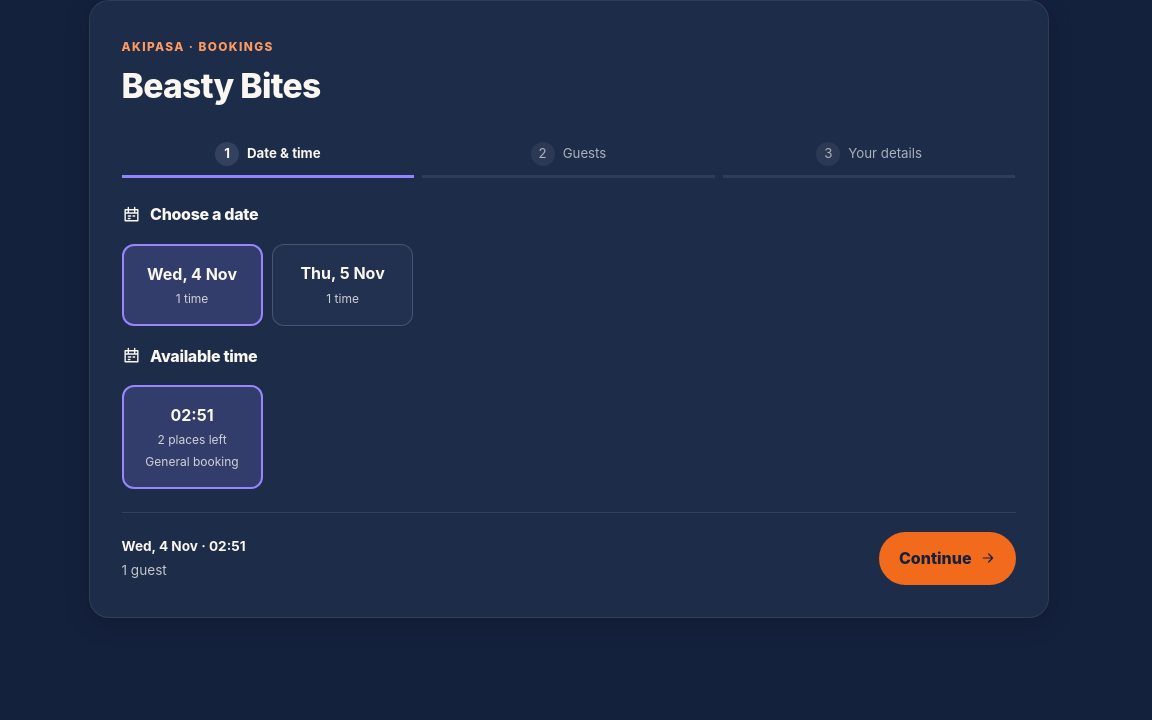
Test: Customer booking wizard › uses steps and guest buttons limited by the selected slot
The width and height of the screenshot is (1152, 720).
Expected: the heading "Choose a date" is shown, [122, 204, 258, 224]
Click the button "Continue" at {"x": 947, "y": 558}, box [879, 532, 1016, 584]
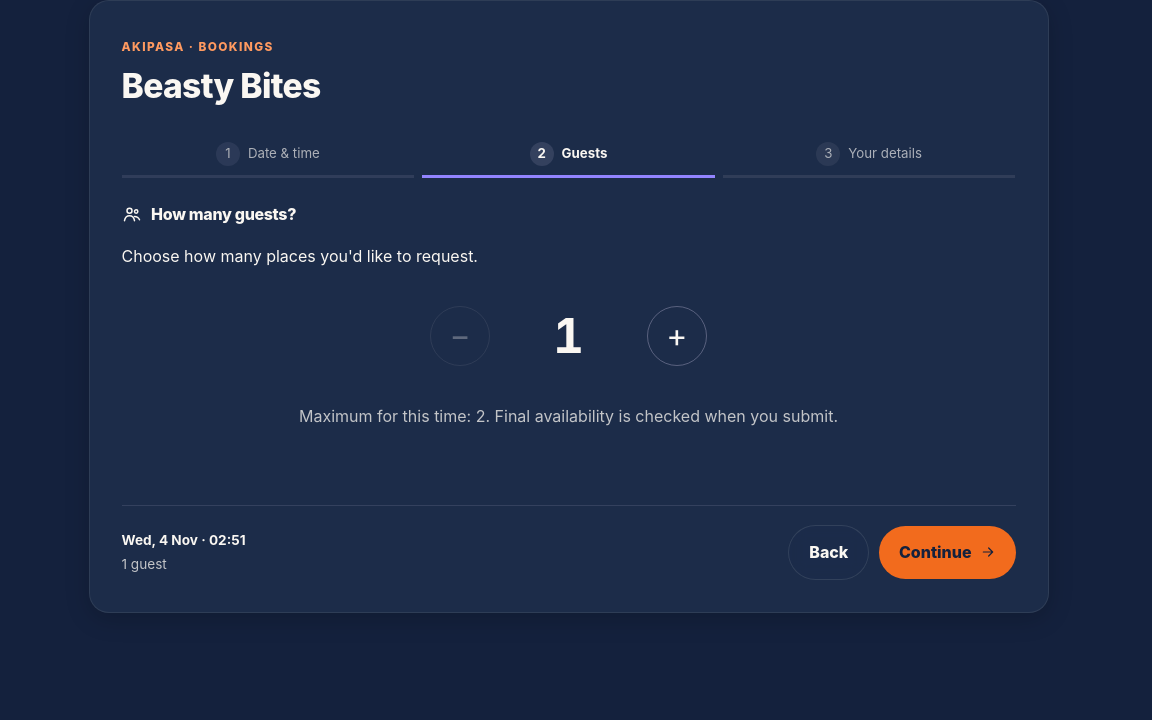
Expected: the heading "How many guests?" is shown, [122, 204, 296, 224]
Click the button named "Add guest" at {"x": 677, "y": 336}, box [647, 306, 707, 366]
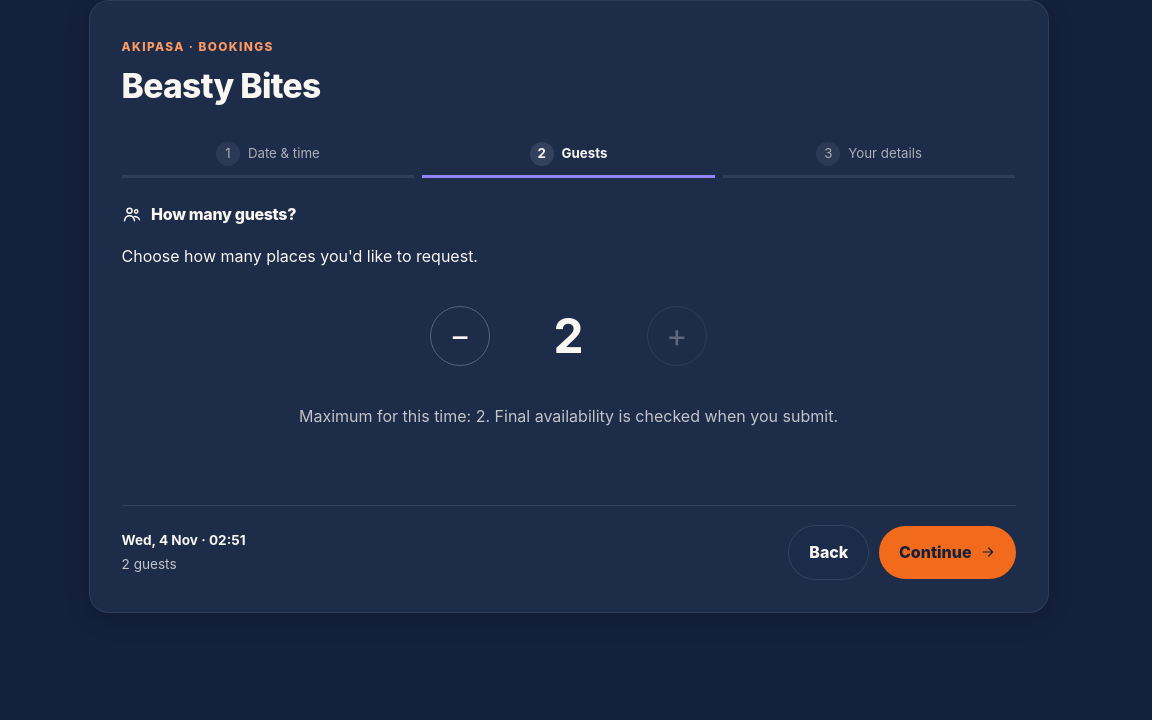
Expected: the text "2" below "How many guests?" is shown, [553, 306, 584, 365]
Expected: the button named "Add guest" is disabled, [647, 306, 707, 366]
Click the button "Continue" at {"x": 947, "y": 552}, box [879, 526, 1016, 579]
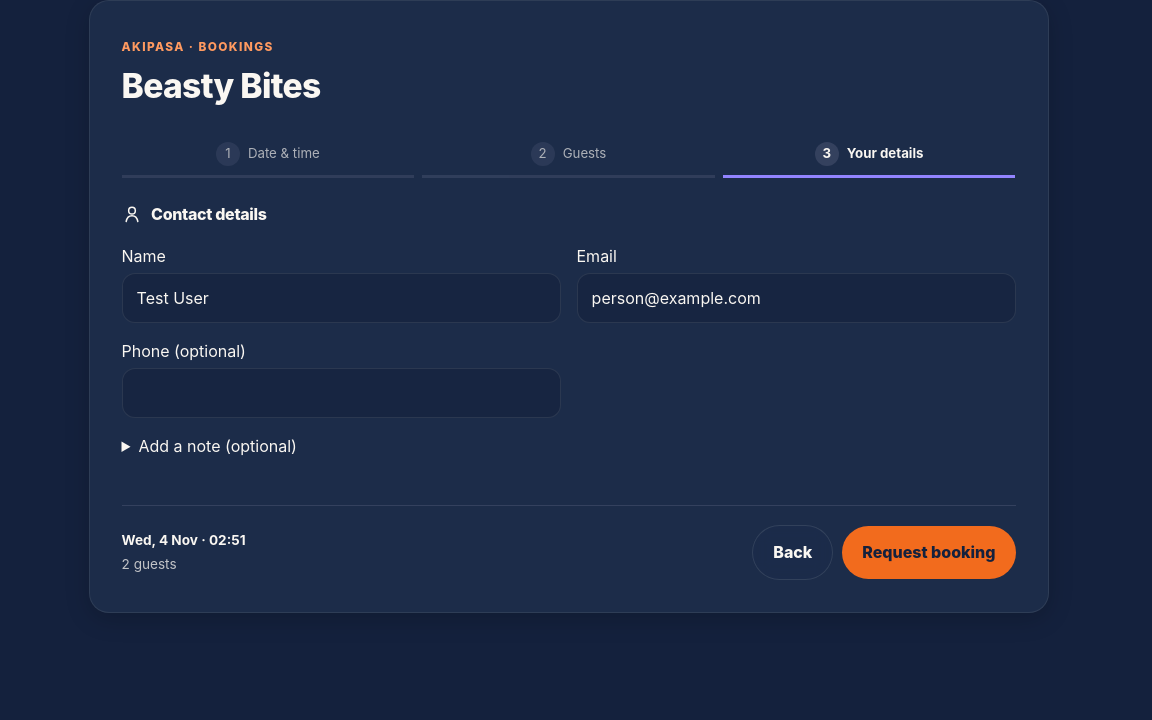
Expected: the button "Request booking" is enabled, [842, 526, 1016, 579]
Expected: the heading "Contact details" is shown, [122, 204, 267, 224]
